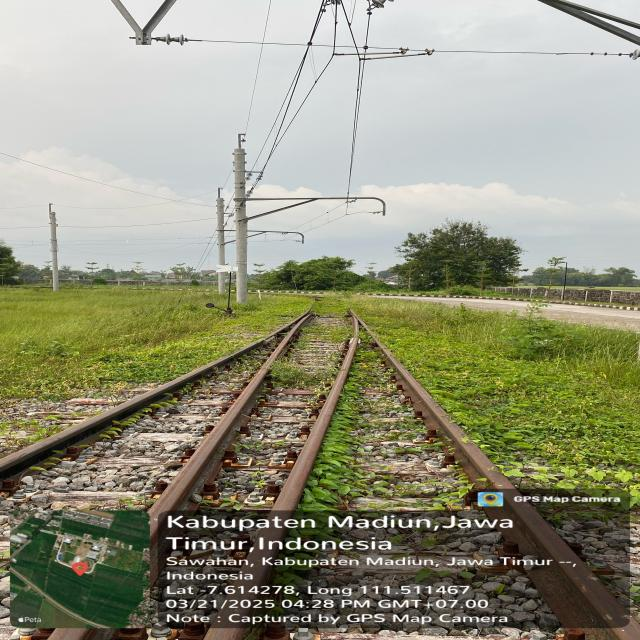rail-detection: (371, 332, 640, 640), (0, 311, 314, 560), (270, 313, 370, 519)
